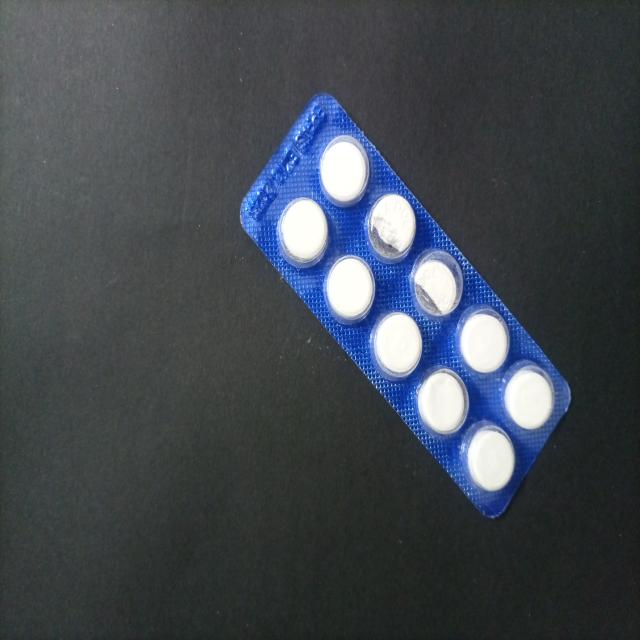defect: (362, 190, 417, 263), (410, 250, 464, 320)
